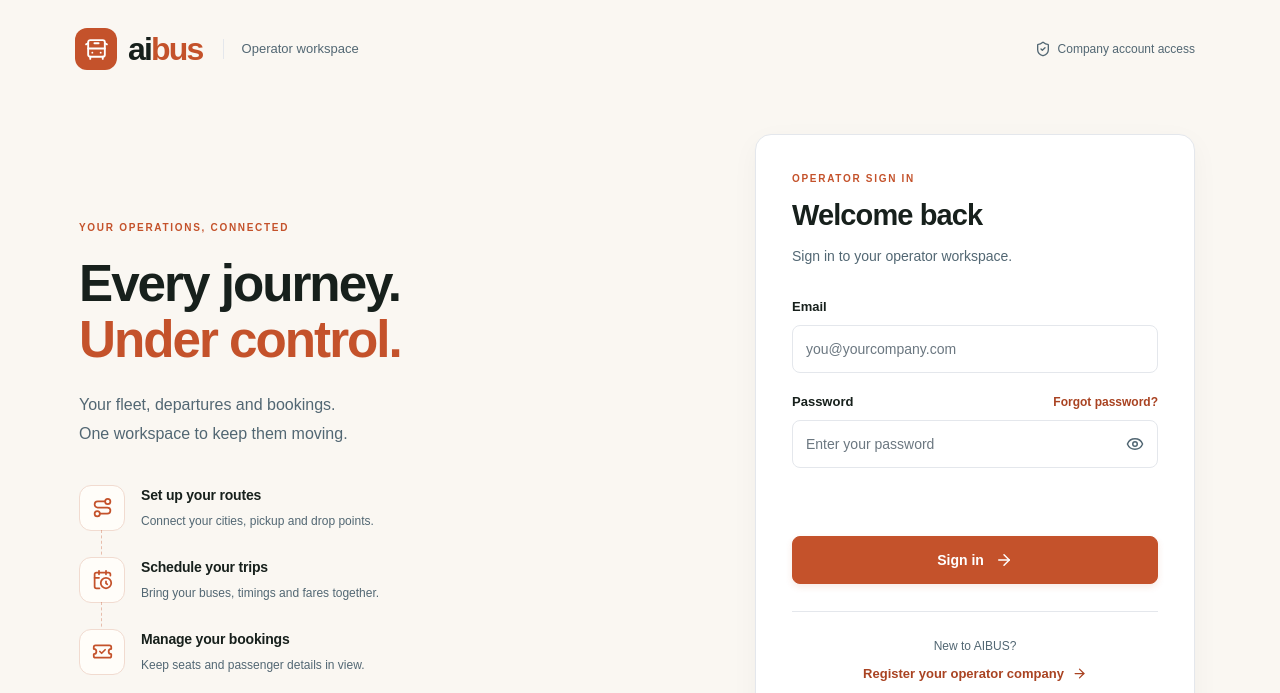
live API workspace › authenticates live operator with pricing permissions and accesses Trip Master
Expected: the button "Sign in" is shown, top-left (792, 536), bottom-right (1158, 584)
In the field labelled "Email": (975, 349) top-left (792, 325), bottom-right (1158, 373), type "operator@example.test"
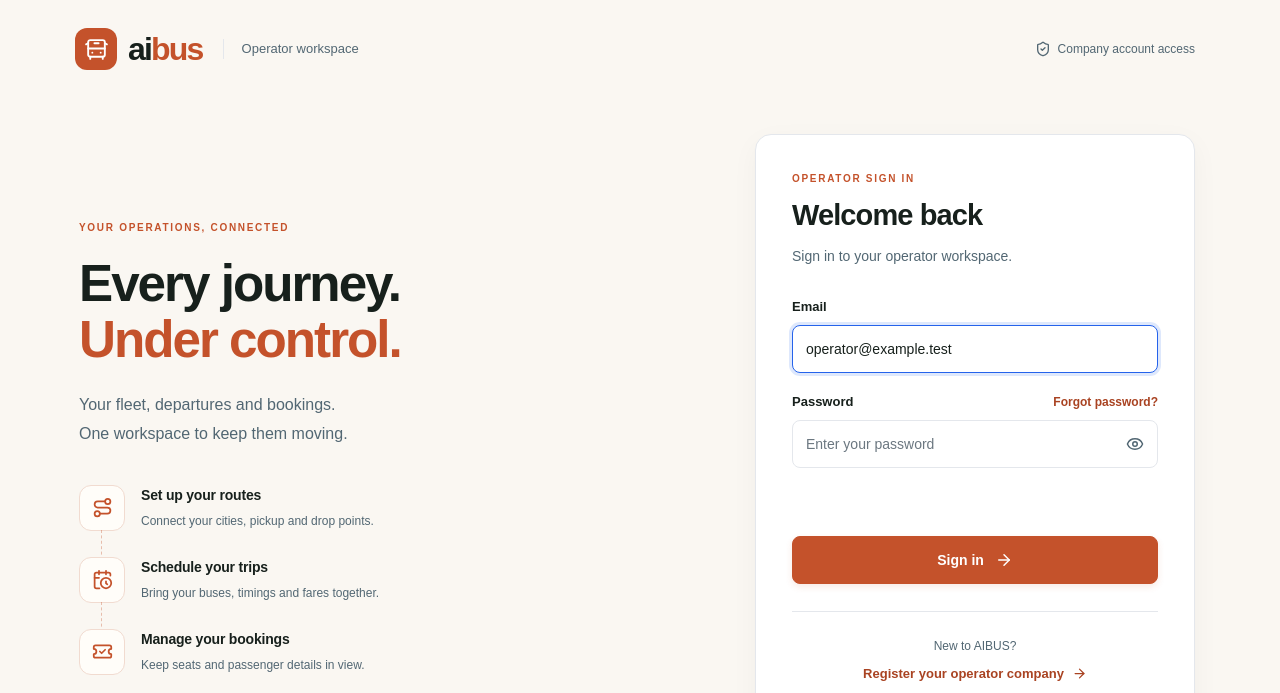
In the password field labelled "Password": (975, 444) top-left (792, 420), bottom-right (1158, 468), type "a-password"
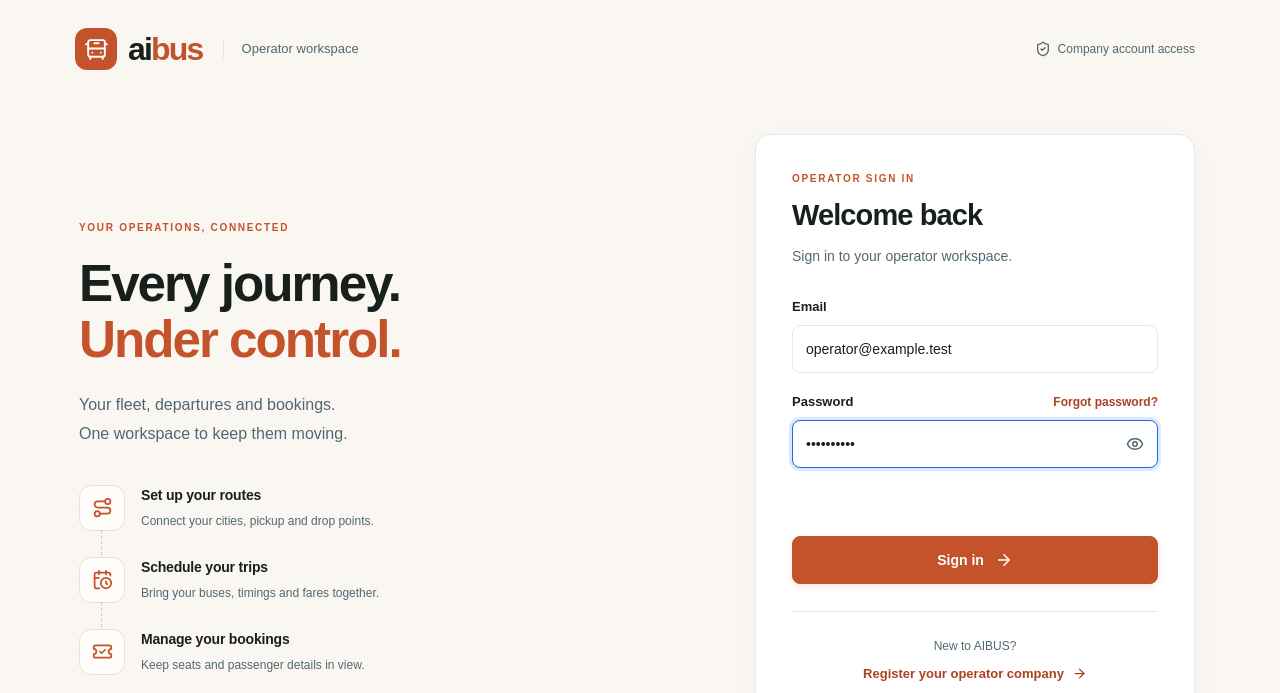
Click the button "Sign in": (975, 560) top-left (792, 536), bottom-right (1158, 584)
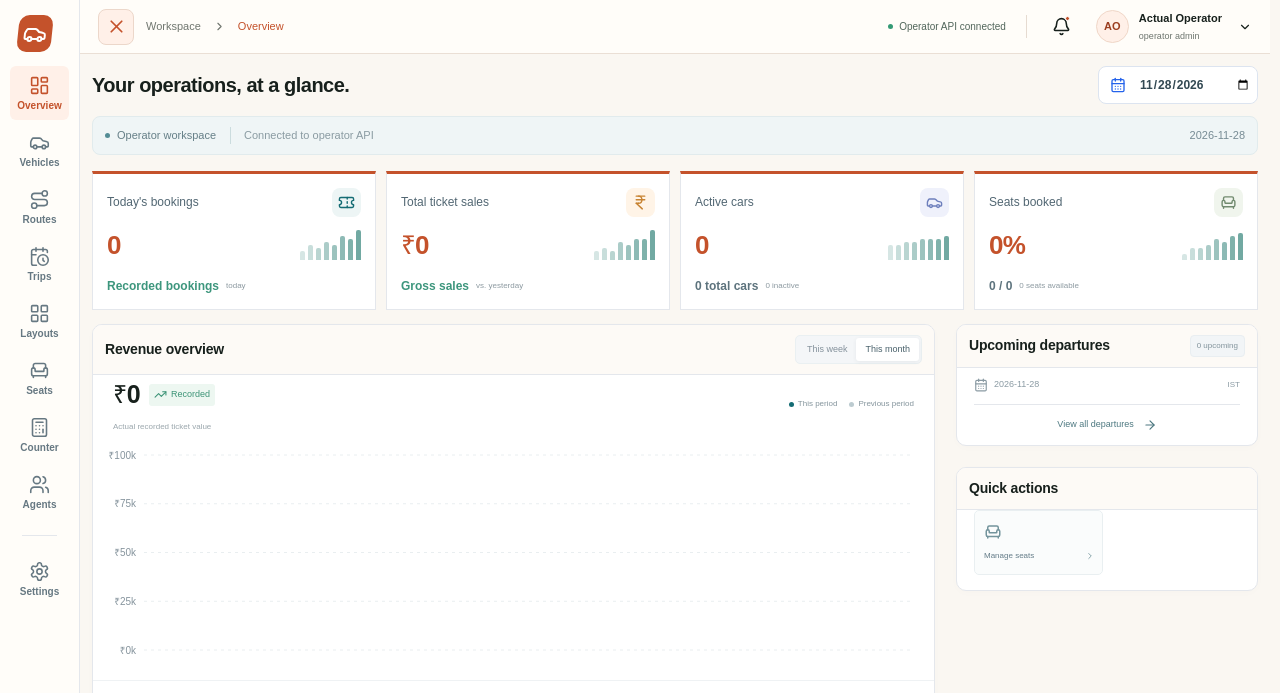
Click the button with aria-label "Trip Master": (40, 264) top-left (10, 237), bottom-right (69, 291)
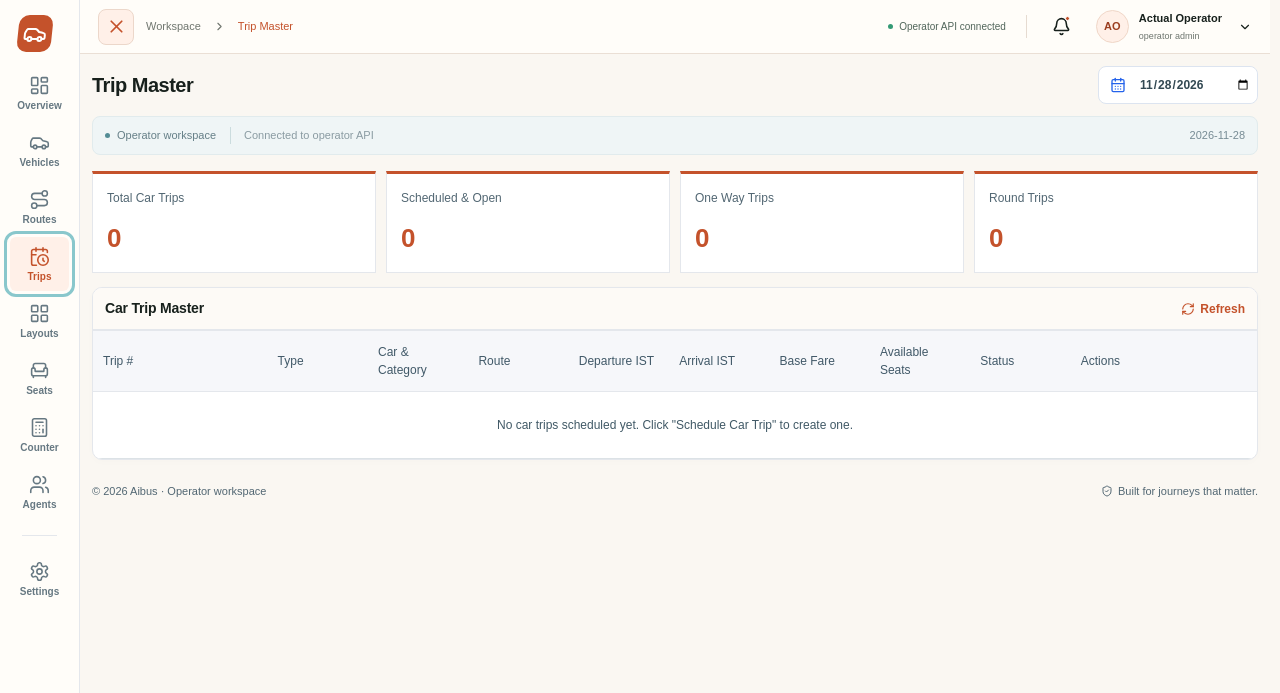
Expected: the heading "Car Trip Master" is shown, top-left (105, 298), bottom-right (204, 319)
